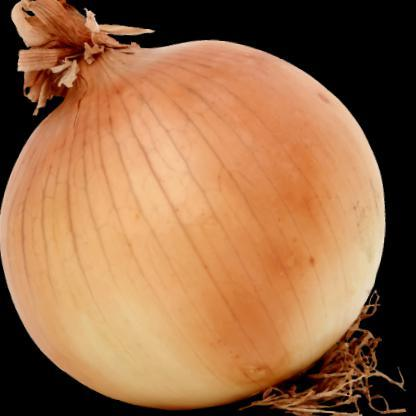onion: (0, 2, 405, 416)
